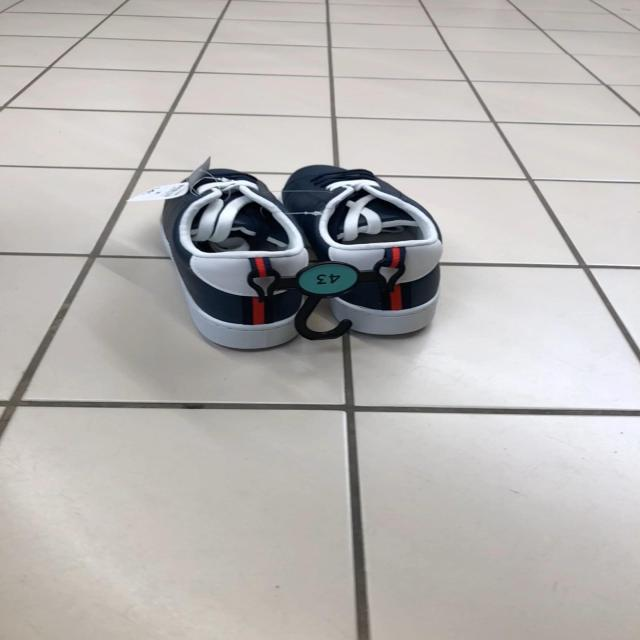shoe: (158, 162, 322, 354), (280, 165, 437, 312)
